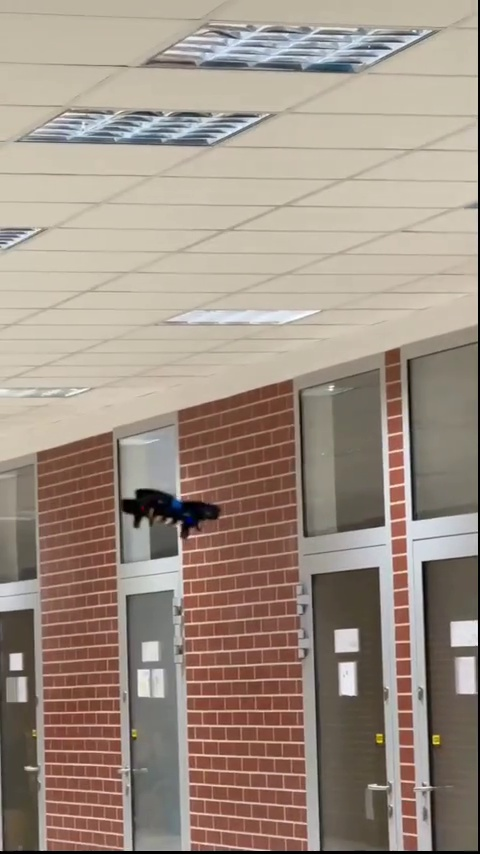drone: (122, 487, 218, 537)
